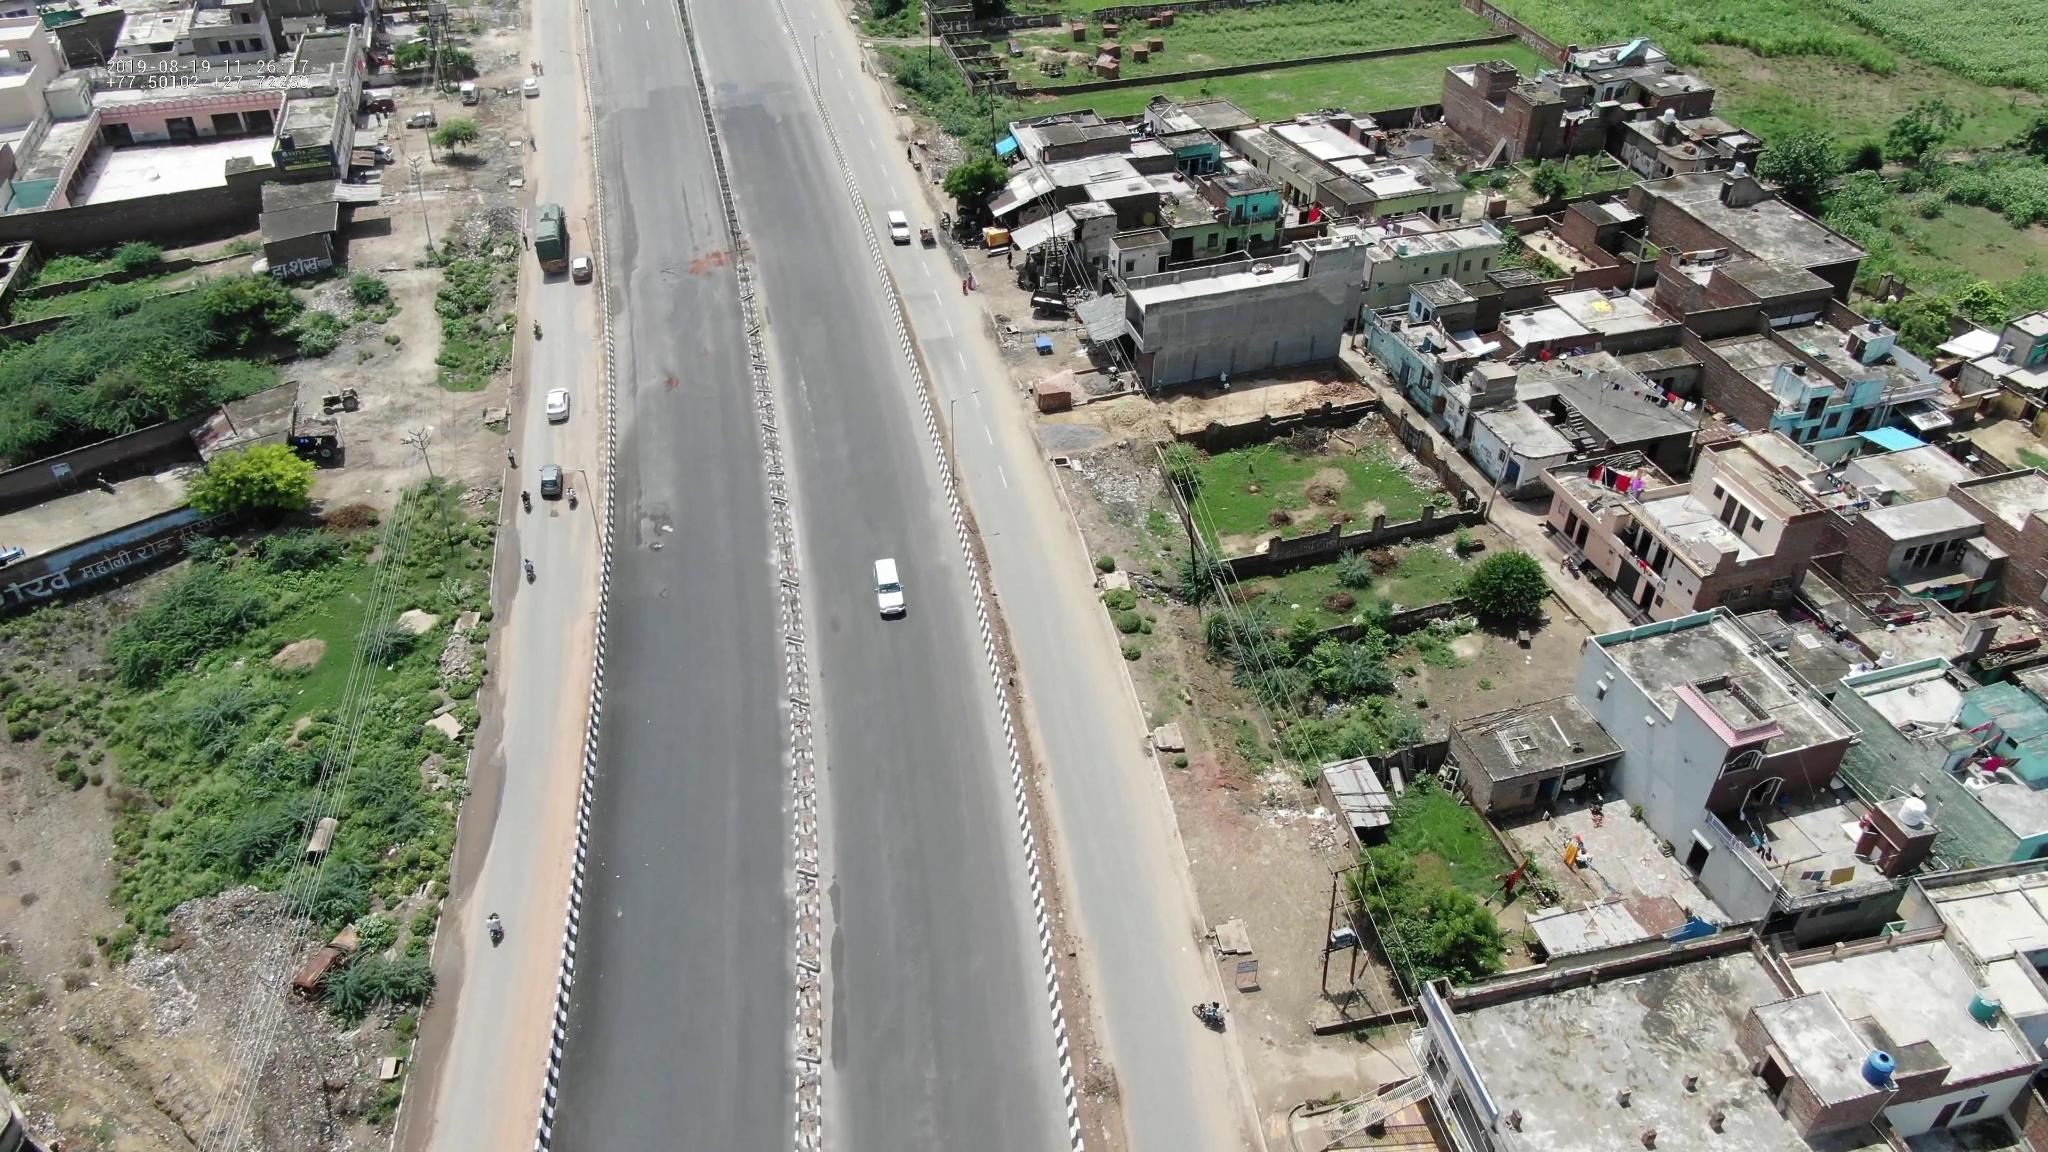Cracks: (679, 181, 700, 250)
Potholes: (644, 504, 681, 560), (640, 580, 688, 617), (654, 370, 691, 402)
